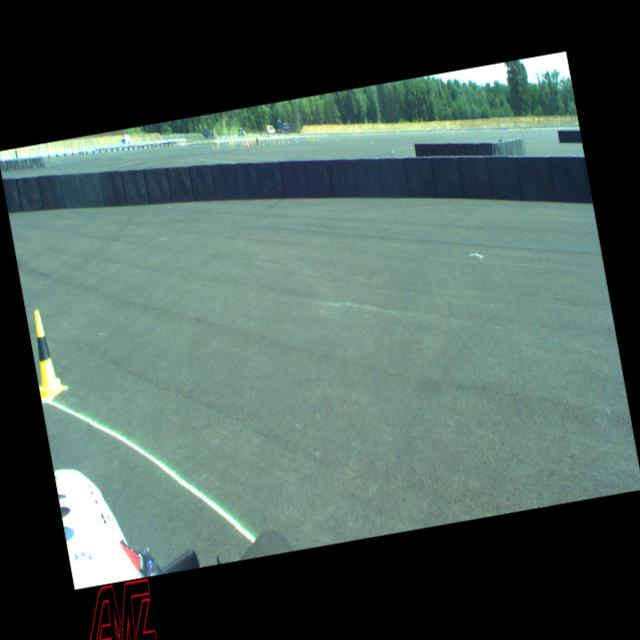yellow_cone: (25, 308, 65, 400)
